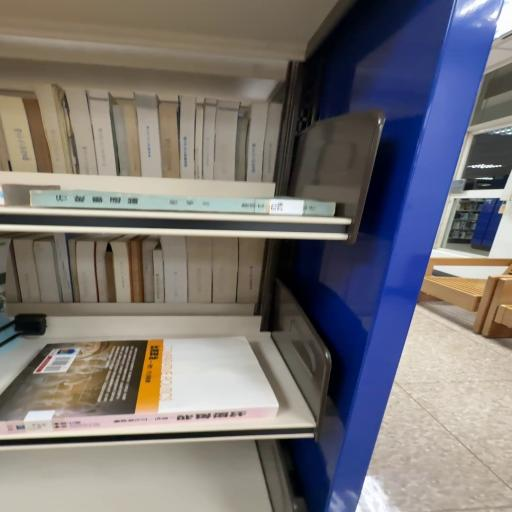flat: (0, 337, 279, 435), (30, 189, 335, 217)
